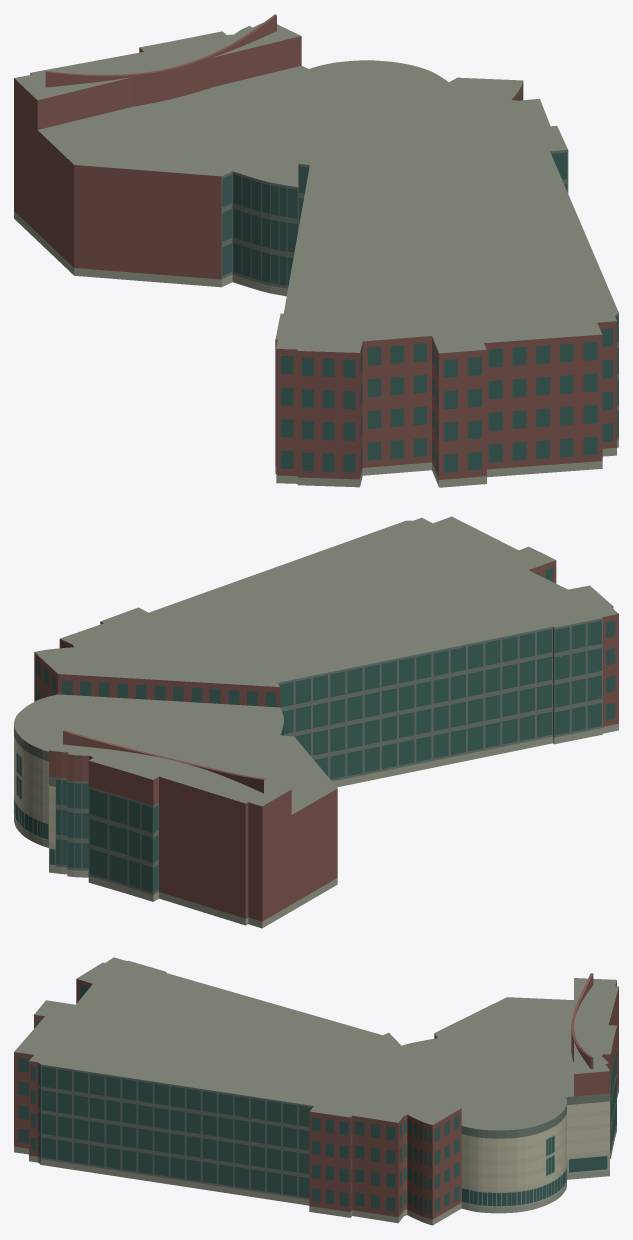
Rendered from coquitlam-city-hall-near.glb.
The picture shows the model from 3 angles, top to bottom: view 1: azimuth 30°, elevation 25°; view 2: azimuth 150°, elevation 25°; view 3: azimuth 270°, elevation 25°; orthographic projection. The views are drawn at different scales.
Visible parts, largest first — view 1: coquitlam-city-hall-0-roof, coquitlam-city-hall-0-brick, coquitlam-city-hall-0-glass, coquitlam-city-hall-0-base, coquitlam-city-hall-0-metal; view 2: coquitlam-city-hall-0-roof, coquitlam-city-hall-0-glass, coquitlam-city-hall-0-brick, coquitlam-city-hall-0-metal, coquitlam-city-hall-0-base, coquitlam-city-hall-0-stone, coquitlam-city-hall-0-stone2, coquitlam-city-hall-0-trim; view 3: coquitlam-city-hall-0-roof, coquitlam-city-hall-0-glass, coquitlam-city-hall-0-brick, coquitlam-city-hall-0-metal, coquitlam-city-hall-0-stone, coquitlam-city-hall-0-base, coquitlam-city-hall-0-stone2, coquitlam-city-hall-0-trim.
Boxes of the visible parts, x1,y1,x2,y2 form: coquitlam-city-hall-0-roof: (14,22,618,353); coquitlam-city-hall-0-brick: (14,14,616,479); coquitlam-city-hall-0-glass: (222,89,618,472); coquitlam-city-hall-0-base: (14,211,618,487); coquitlam-city-hall-0-metal: (221,150,618,440); coquitlam-city-hall-0-roof: (14,516,618,814); coquitlam-city-hall-0-glass: (14,567,615,892); coquitlam-city-hall-0-brick: (34,560,618,921); coquitlam-city-hall-0-metal: (14,618,602,894); coquitlam-city-hall-0-base: (14,723,618,928); coquitlam-city-hall-0-stone: (14,735,55,842); coquitlam-city-hall-0-stone2: (14,746,55,848); coquitlam-city-hall-0-trim: (14,751,55,866); coquitlam-city-hall-0-roof: (14,957,618,1130); coquitlam-city-hall-0-glass: (18,985,616,1214); coquitlam-city-hall-0-brick: (14,973,618,1219); coquitlam-city-hall-0-metal: (38,972,616,1199); coquitlam-city-hall-0-stone: (461,1101,609,1187); coquitlam-city-hall-0-base: (14,1086,618,1225); coquitlam-city-hall-0-stone2: (461,1110,609,1191); coquitlam-city-hall-0-trim: (461,1134,609,1207).
Bounding box in the file's own units: 61.69 × 20 × 93.96.
